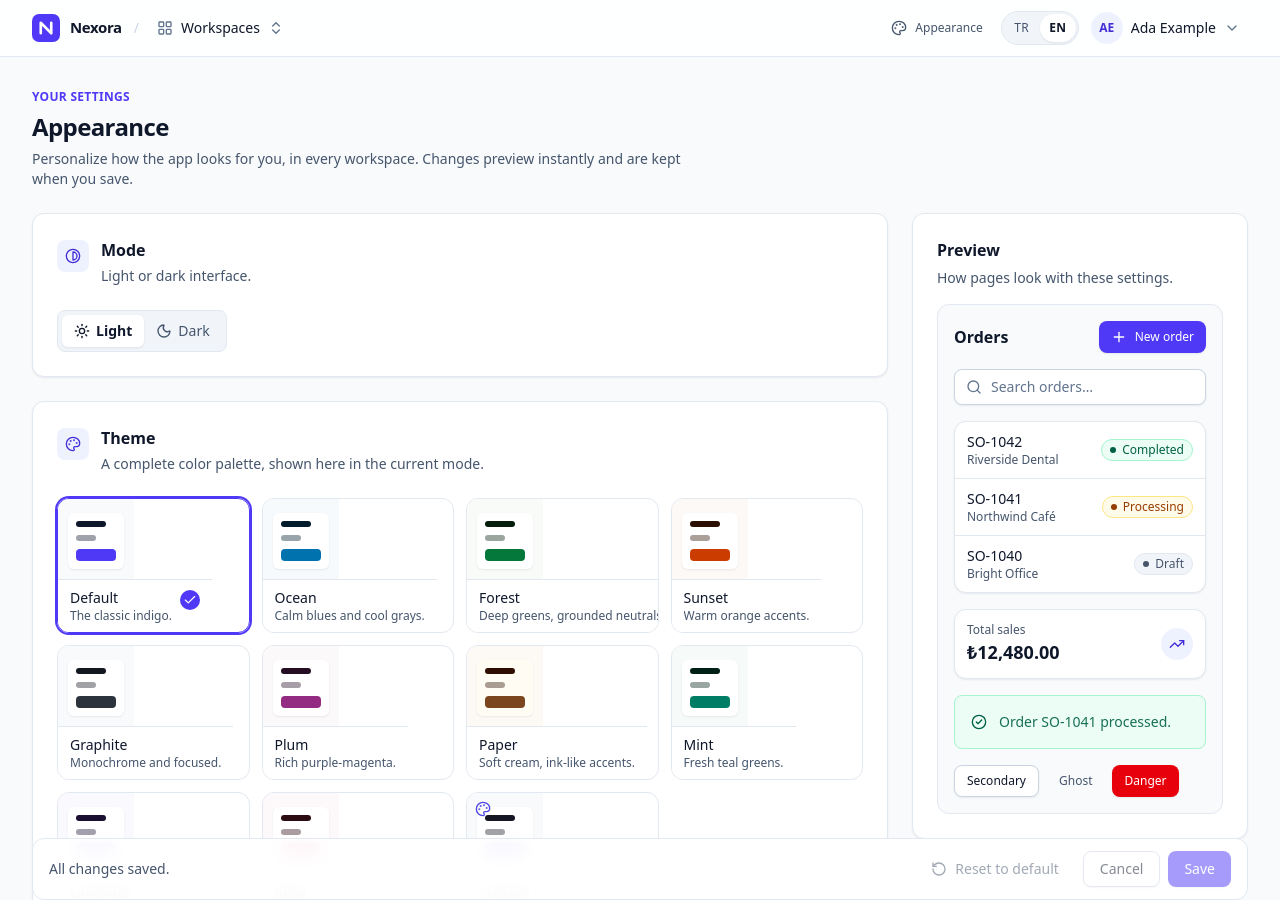
Test: AppearancePage › never sends ownership fields or computed CSS to the API
Expected: the heading "Appearance" is shown, [32,110,169,143]
Click the radio button labelled "Dark". click: coordinates (183, 331)
box: [144,315,222,347]
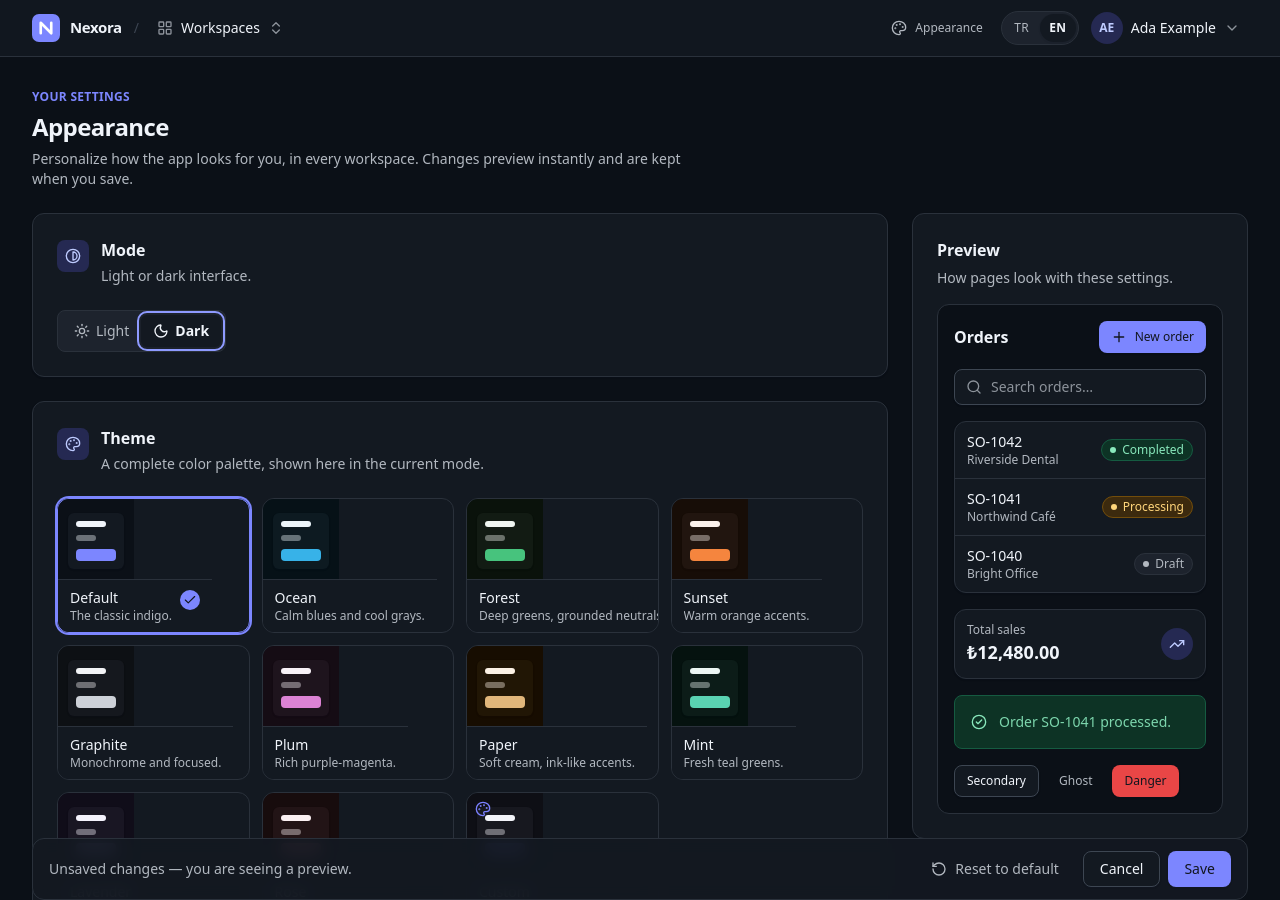
Click the button "Save". click: coordinates (1200, 869)
box: [1168,851,1231,887]
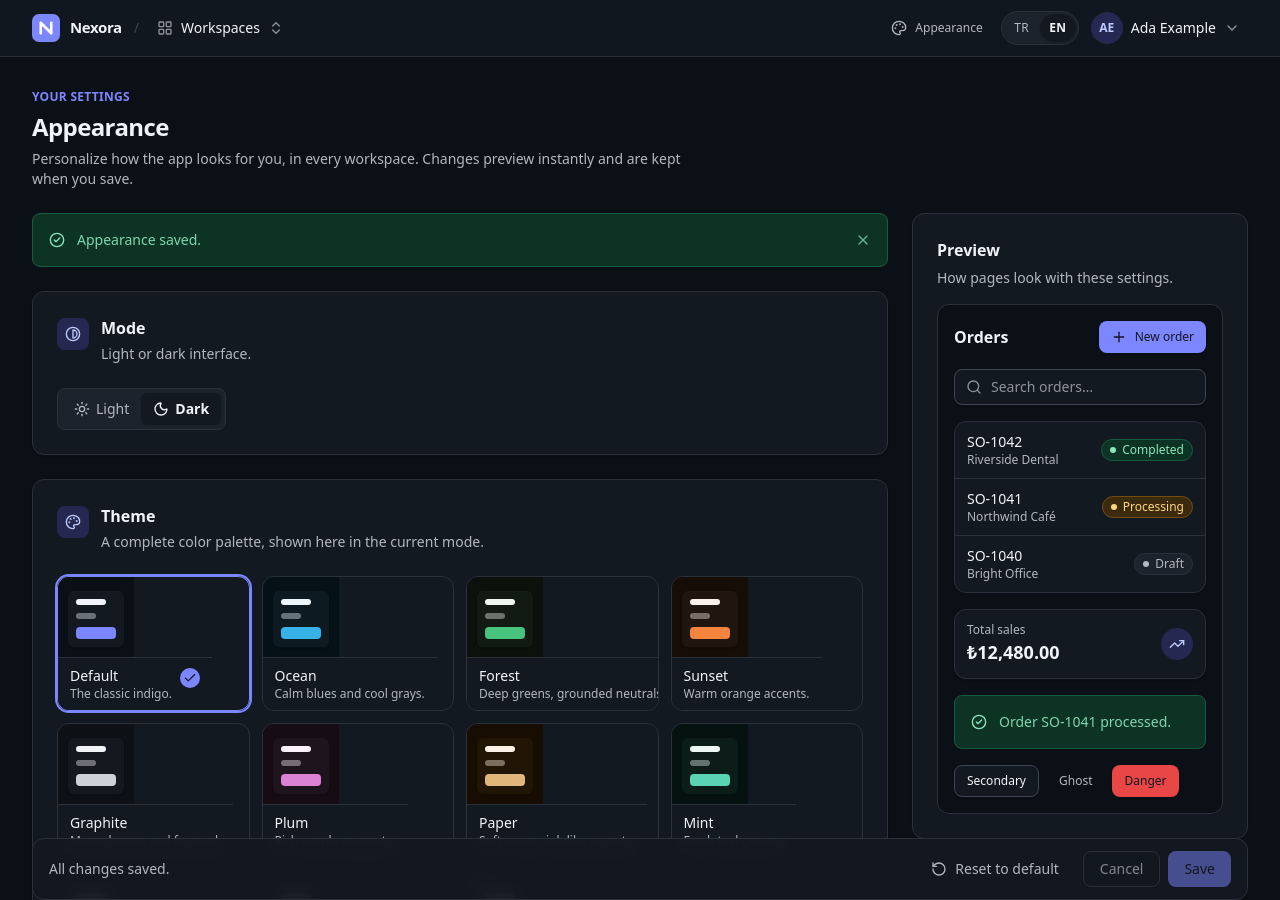
Expected: the text "Appearance saved." is shown, [77,230,201,249]
